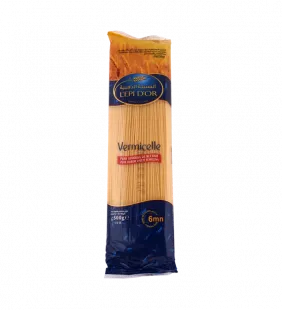L'EPI D'OR: (93, 20, 187, 284)
